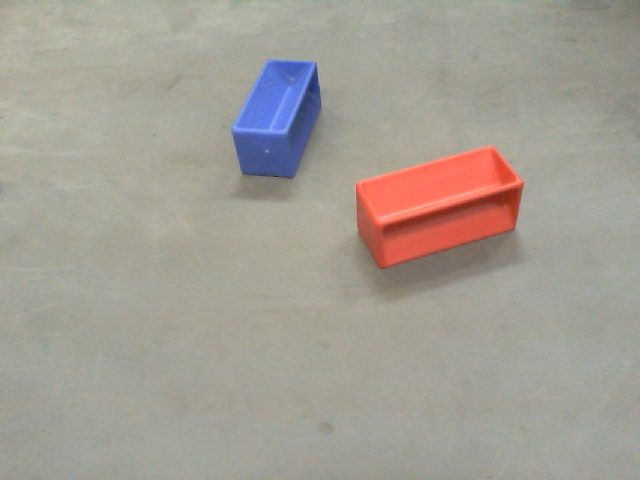BlueSample: (231, 56, 323, 177)
RedSample: (353, 145, 527, 270)
